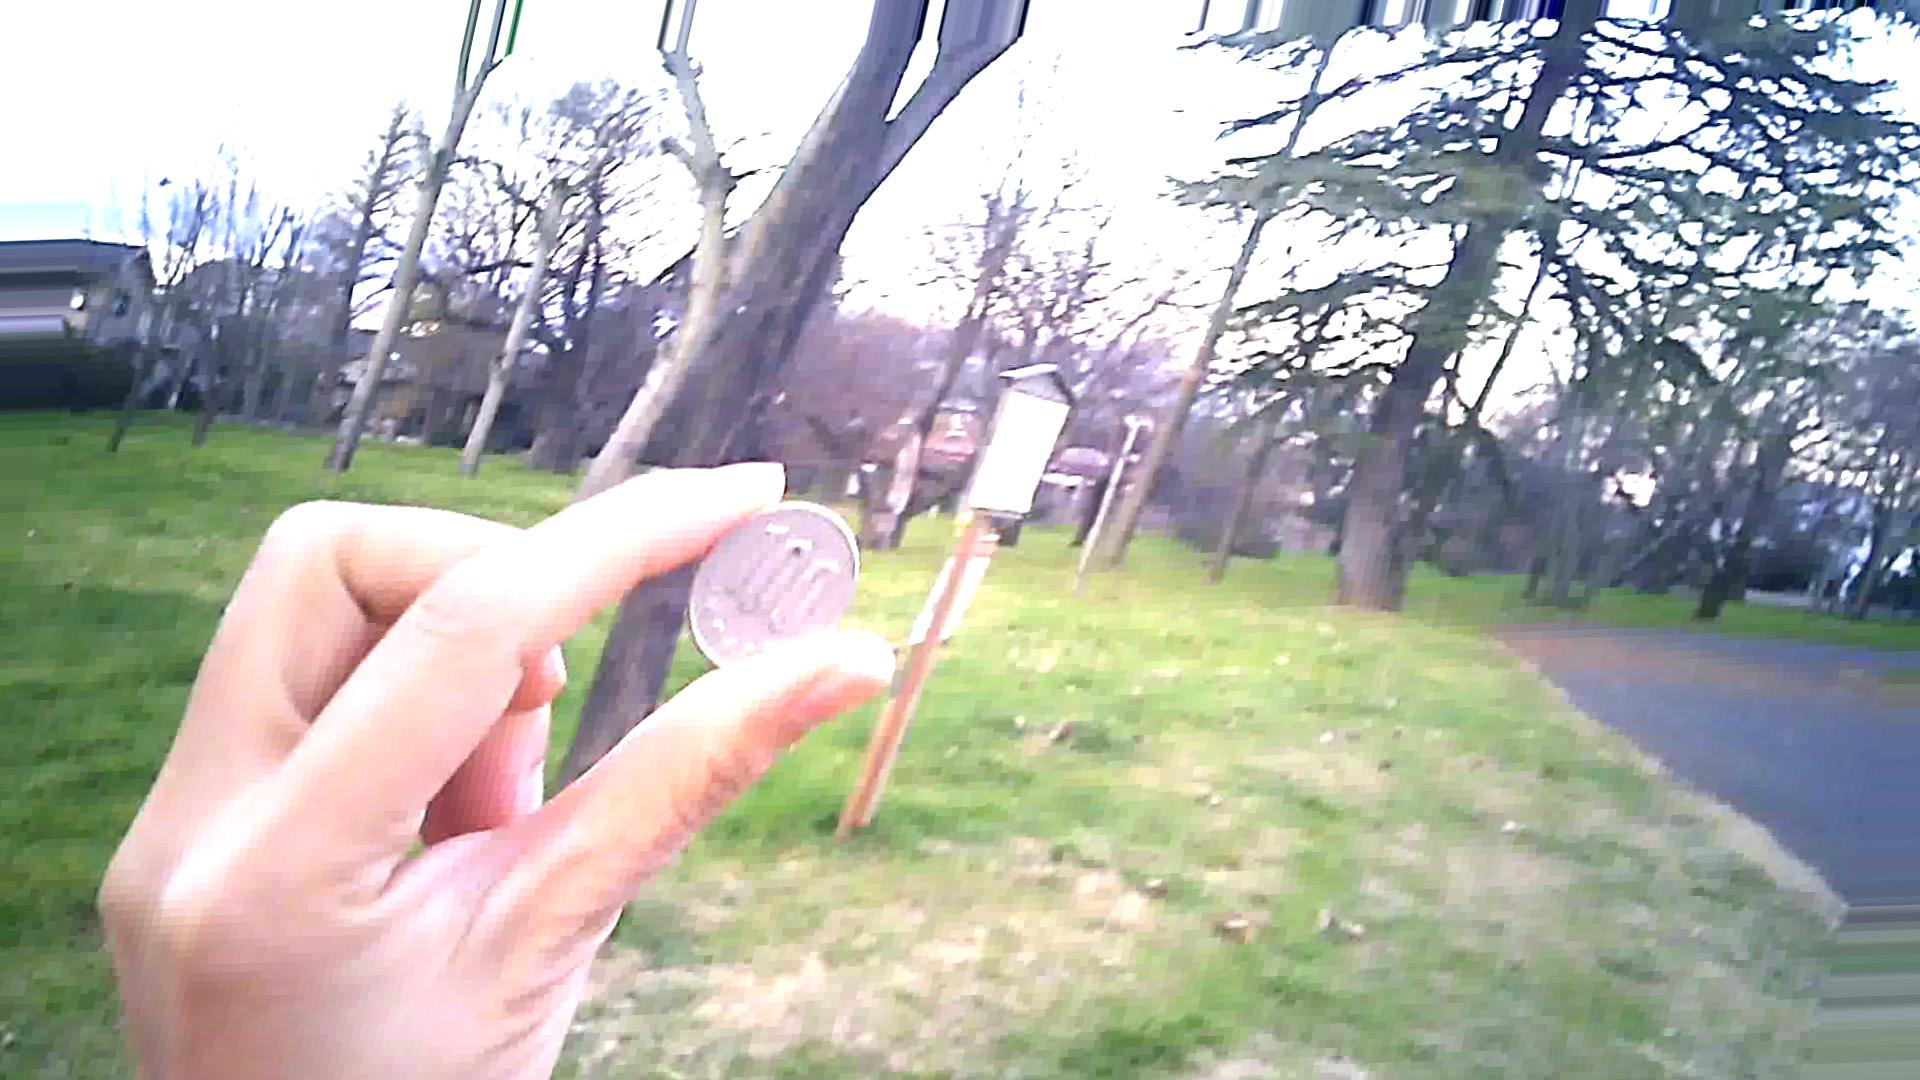100 Yen: (678, 495, 862, 678)
